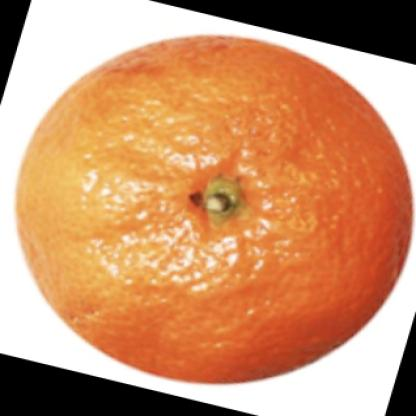fresh: (16, 36, 413, 387)
